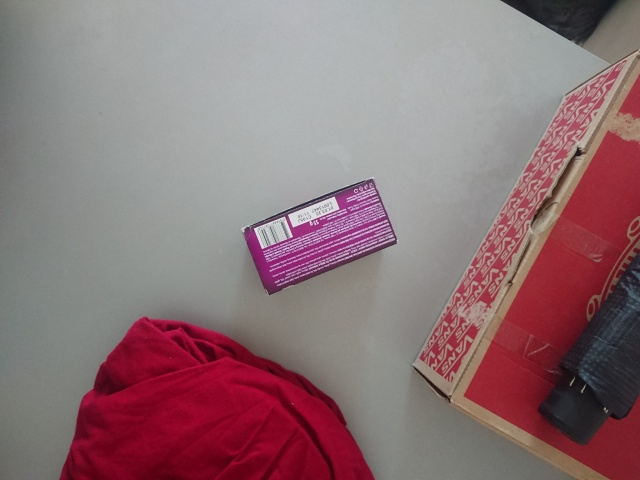Franck Black Currant Tea 60g: (239, 174, 401, 297)
